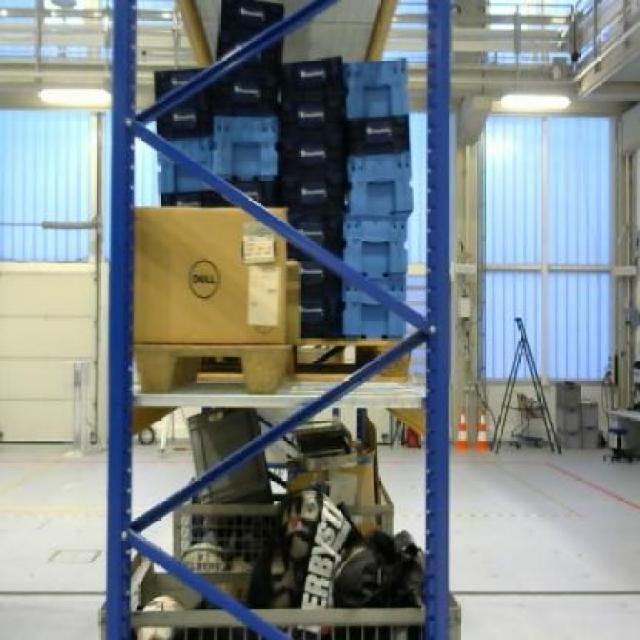box: (138, 203, 287, 342)
